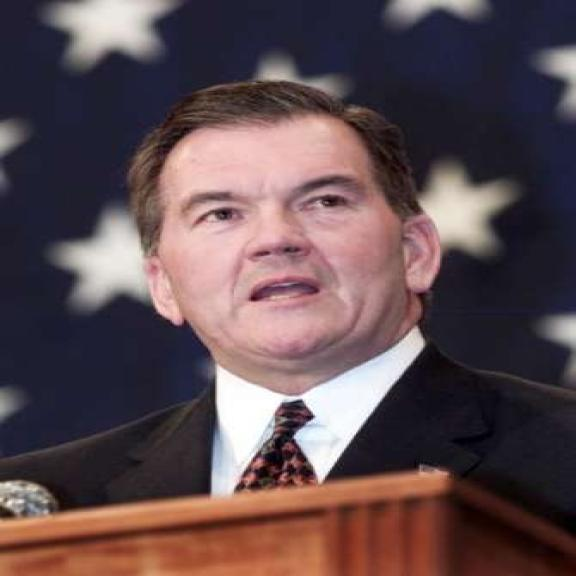face: (139, 121, 456, 367)
